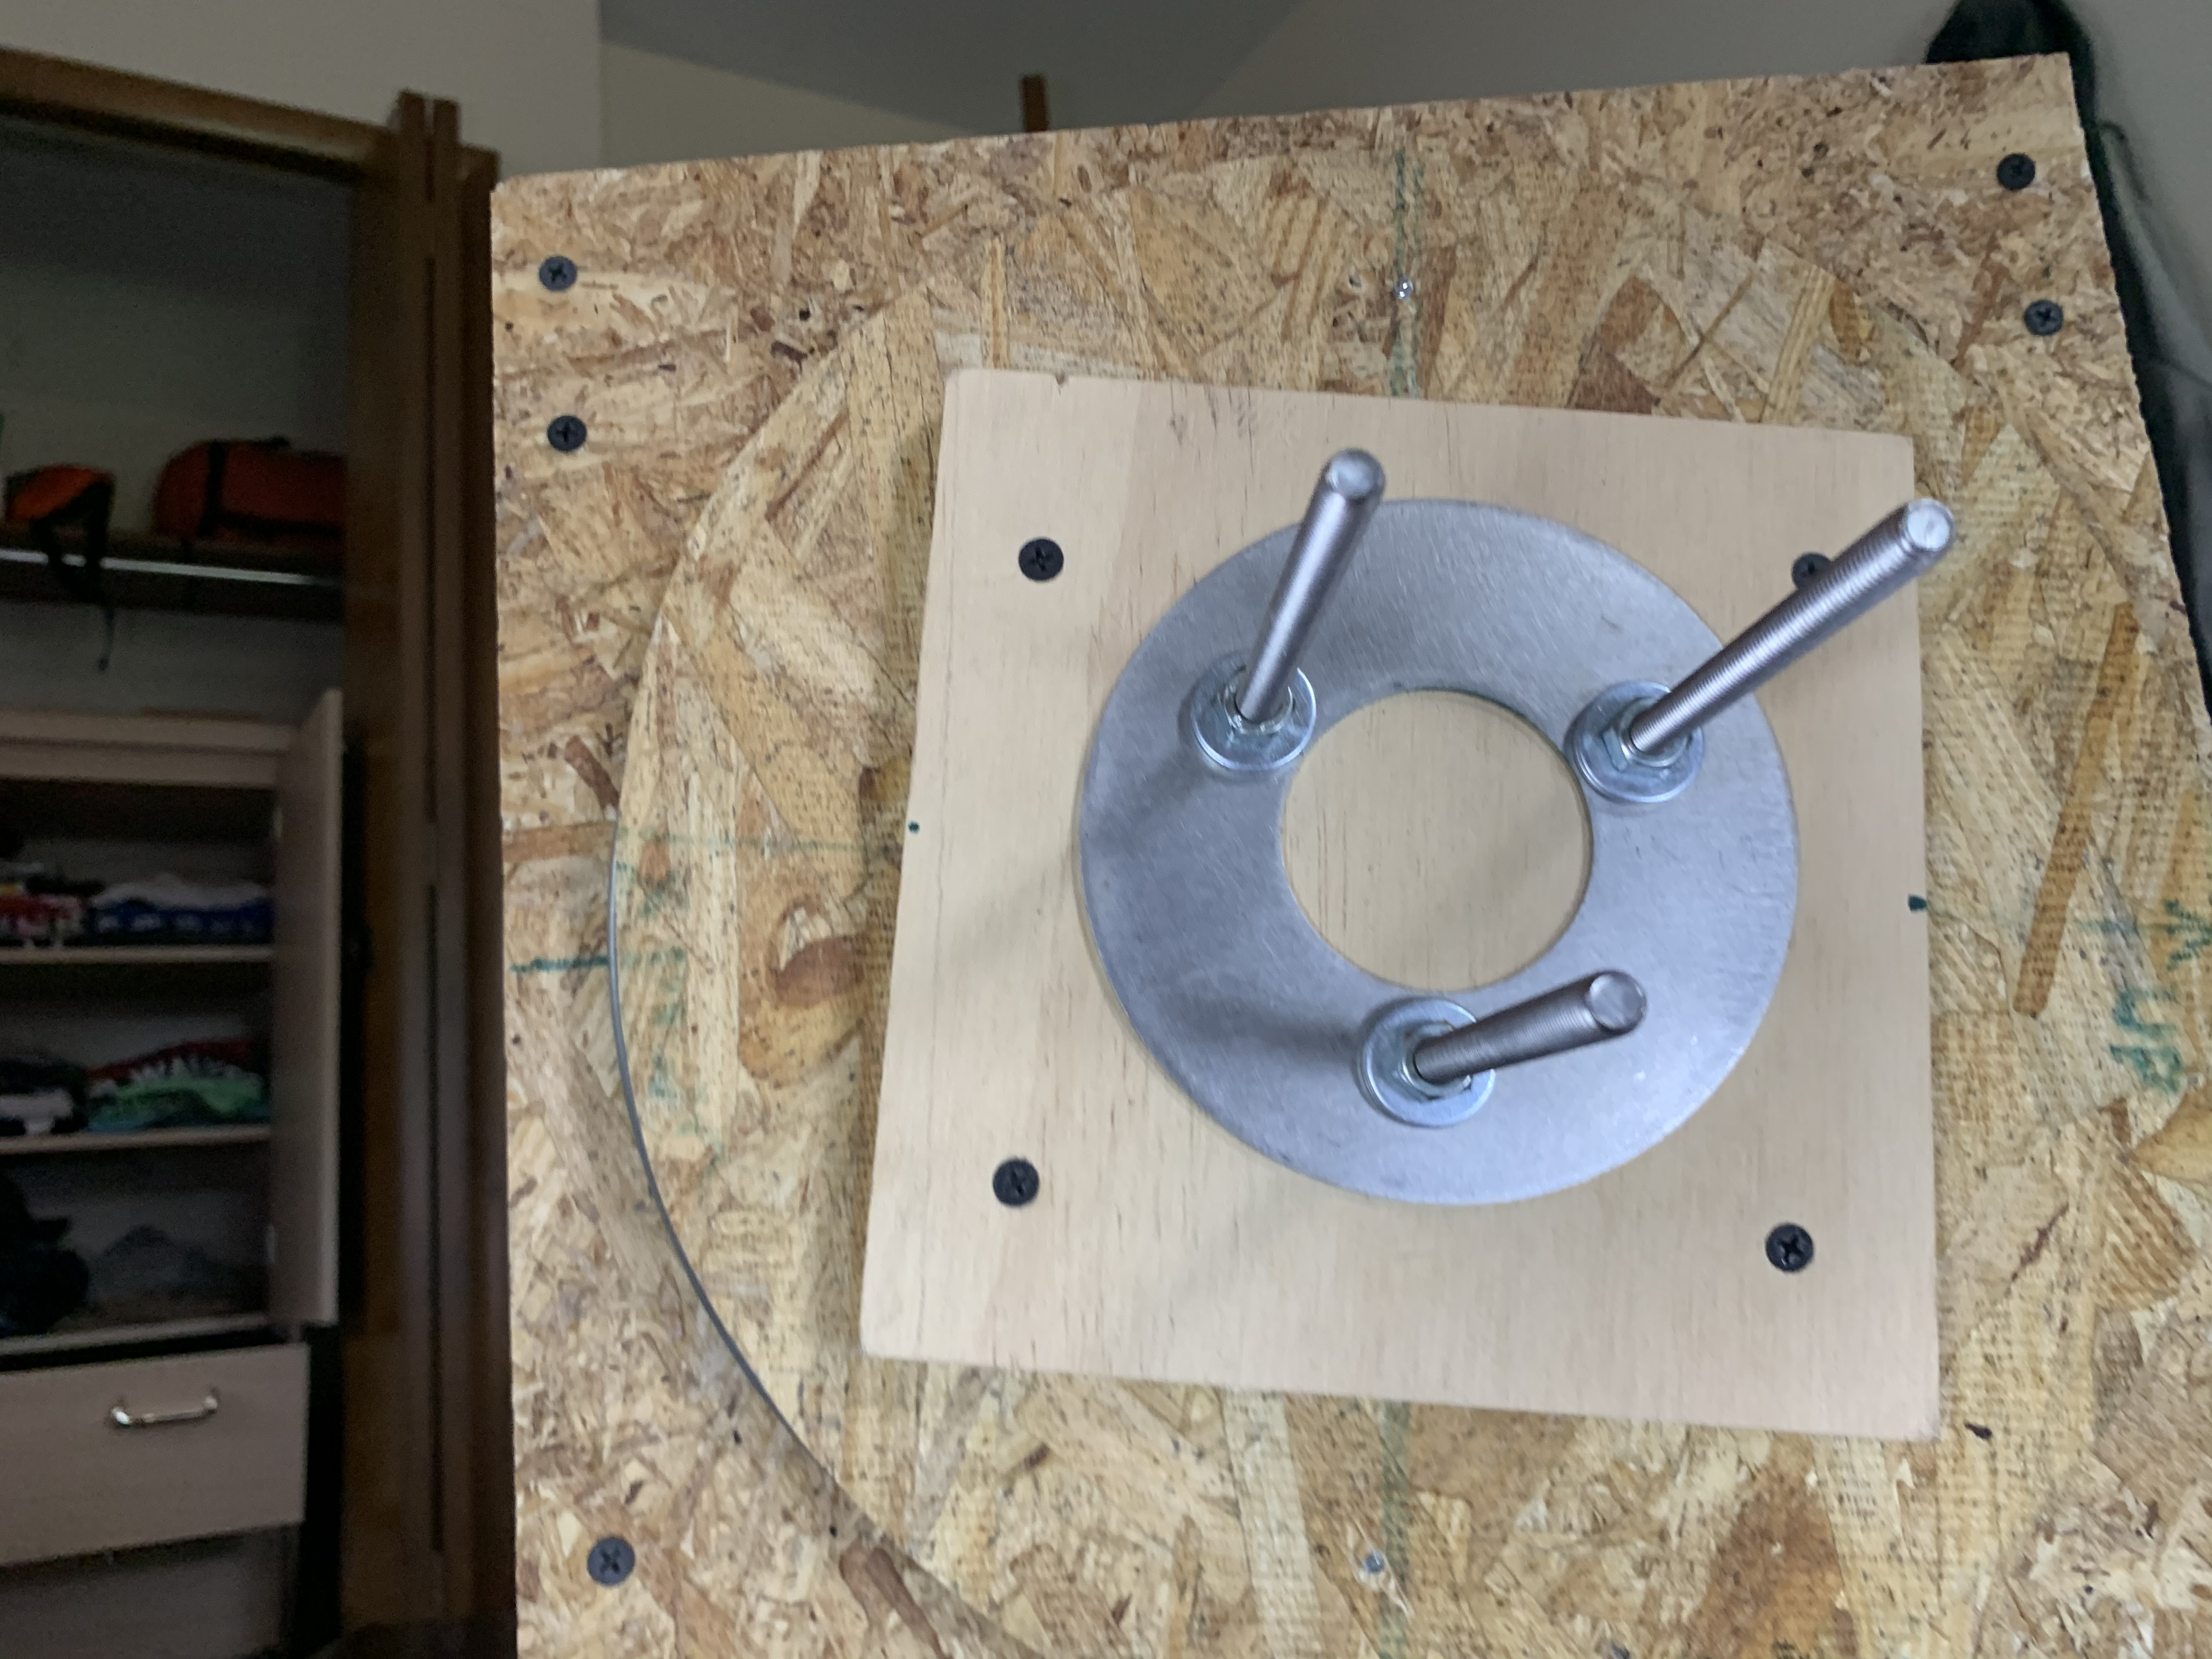bolt: (1353, 997, 1498, 1133), (1571, 681, 1703, 807), (1190, 647, 1312, 775)
